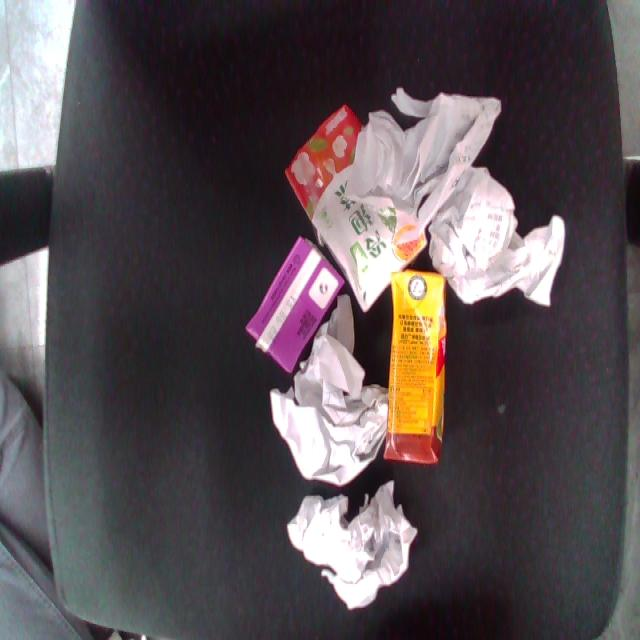juicebox: (258, 89, 453, 326), (222, 217, 377, 390), (376, 266, 457, 475)
paper: (221, 276, 451, 520), (310, 31, 523, 262), (402, 144, 606, 355), (272, 474, 438, 625)
